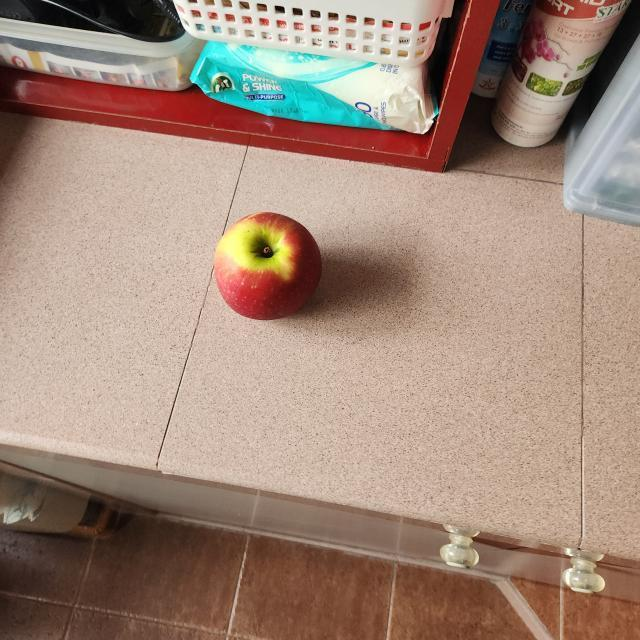apple: (205, 201, 328, 327)
